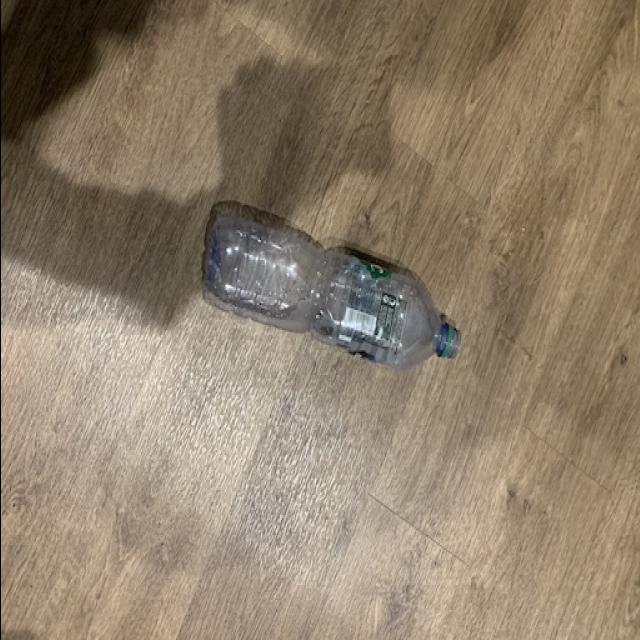PET: (200, 196, 461, 372)
